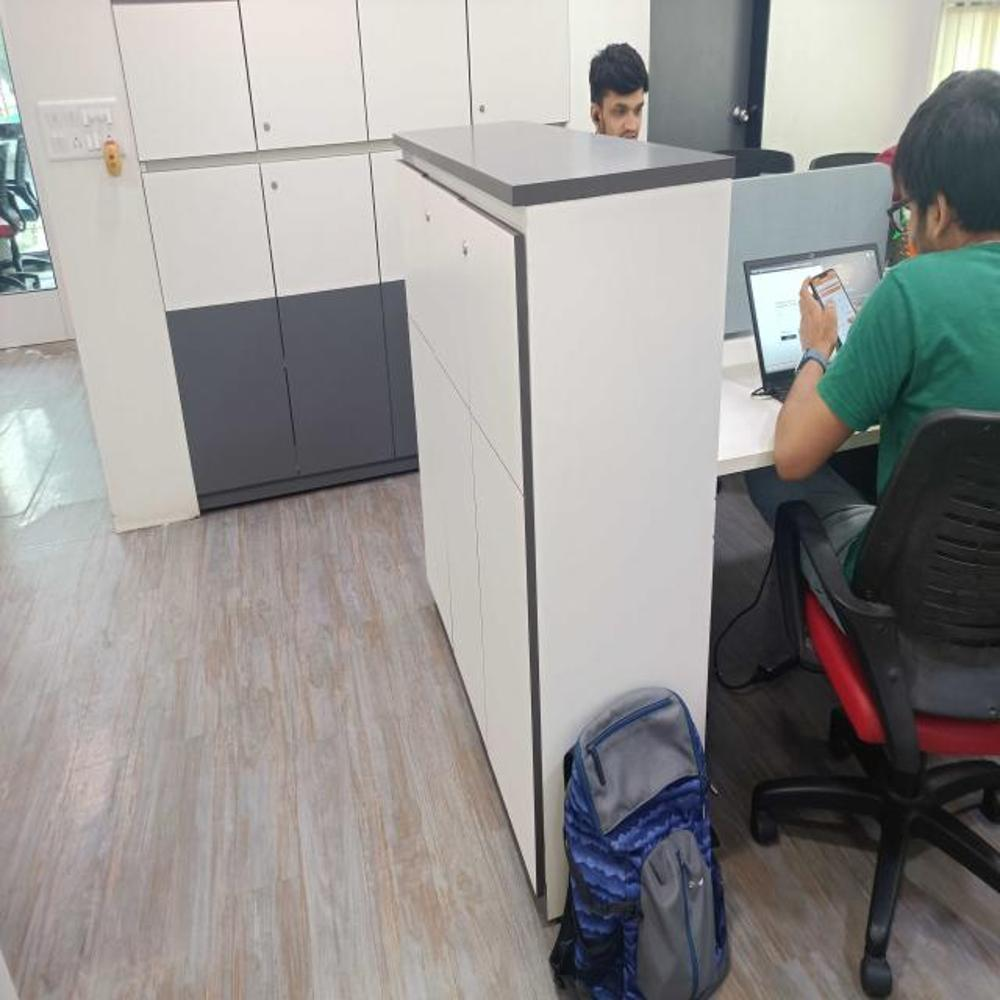cabinet: (376, 93, 736, 929)
